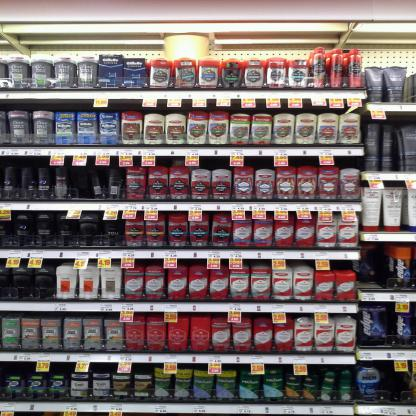Void: (357, 245, 384, 287), (72, 168, 101, 200), (384, 371, 408, 398)
